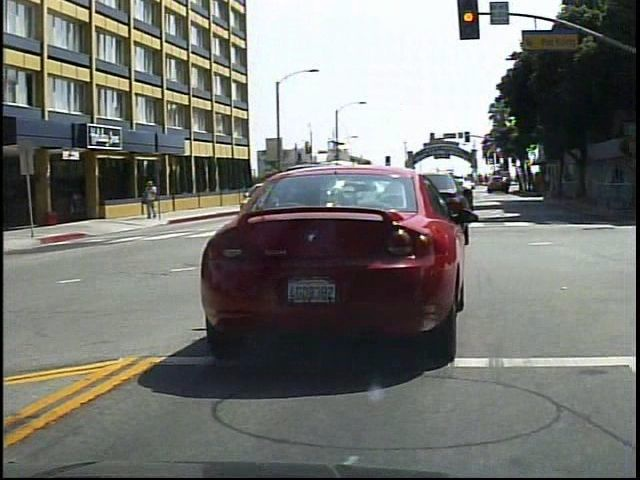person: (142, 177, 164, 225)
